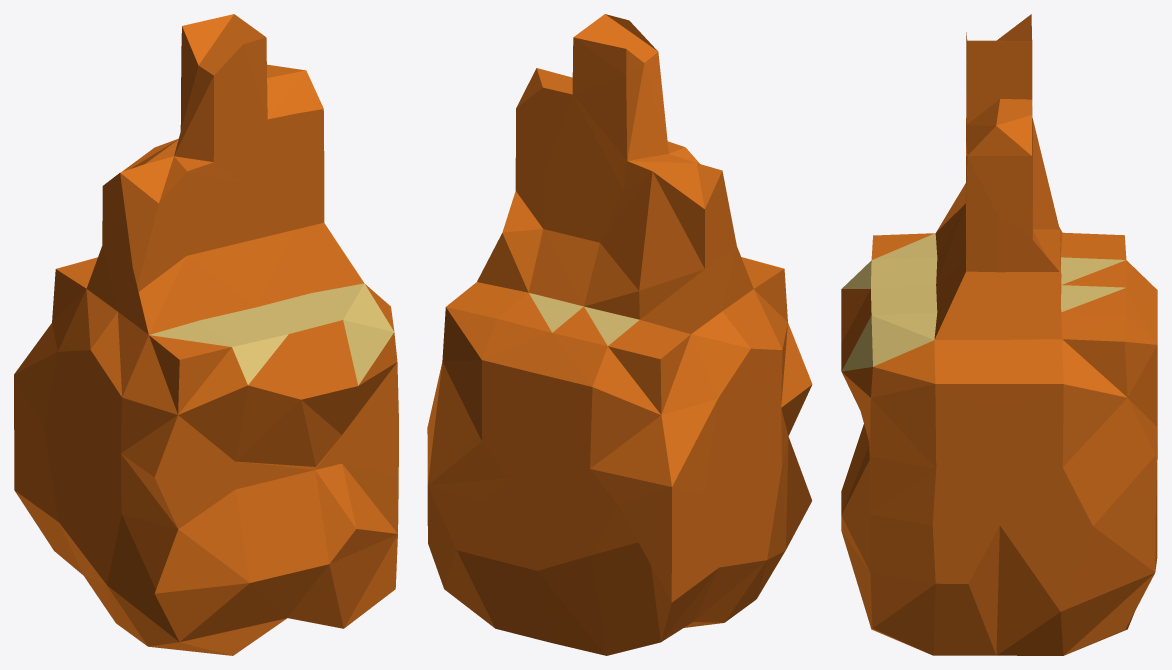
The model's file is flame-wisp.glb.
The picture shows the model from 3 angles, left to right: view 1: azimuth 30°, elevation 25°; view 2: azimuth 150°, elevation 25°; view 3: azimuth 270°, elevation 25°; orthographic projection.
Size of the model in its own units: 0.4929 by 0.9907 by 0.4925.
